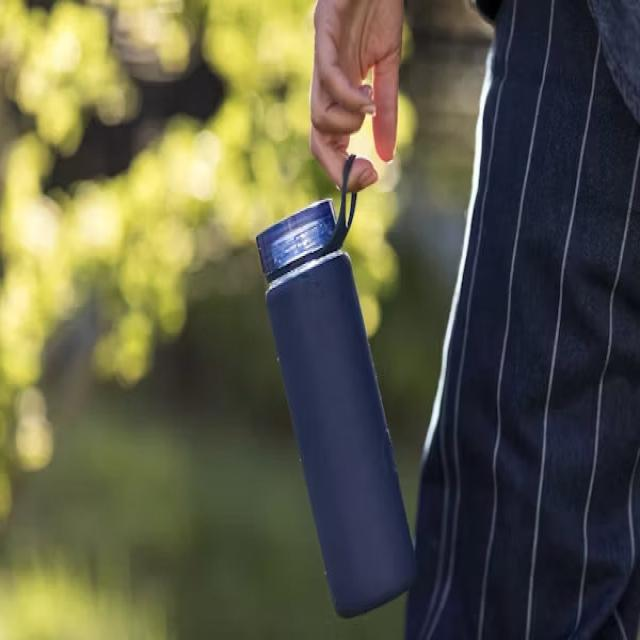Bottle: (258, 200, 415, 617)
